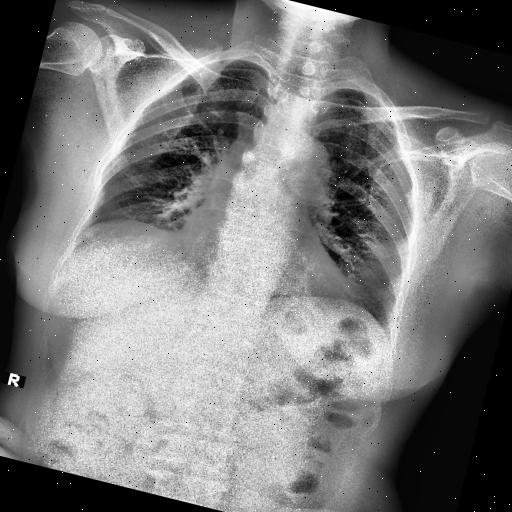0- Aortic enlargement: (270, 128, 336, 192), (273, 125, 339, 188), (290, 133, 338, 185)
3- Cardiomegaly: (169, 211, 369, 317), (172, 212, 372, 307)
